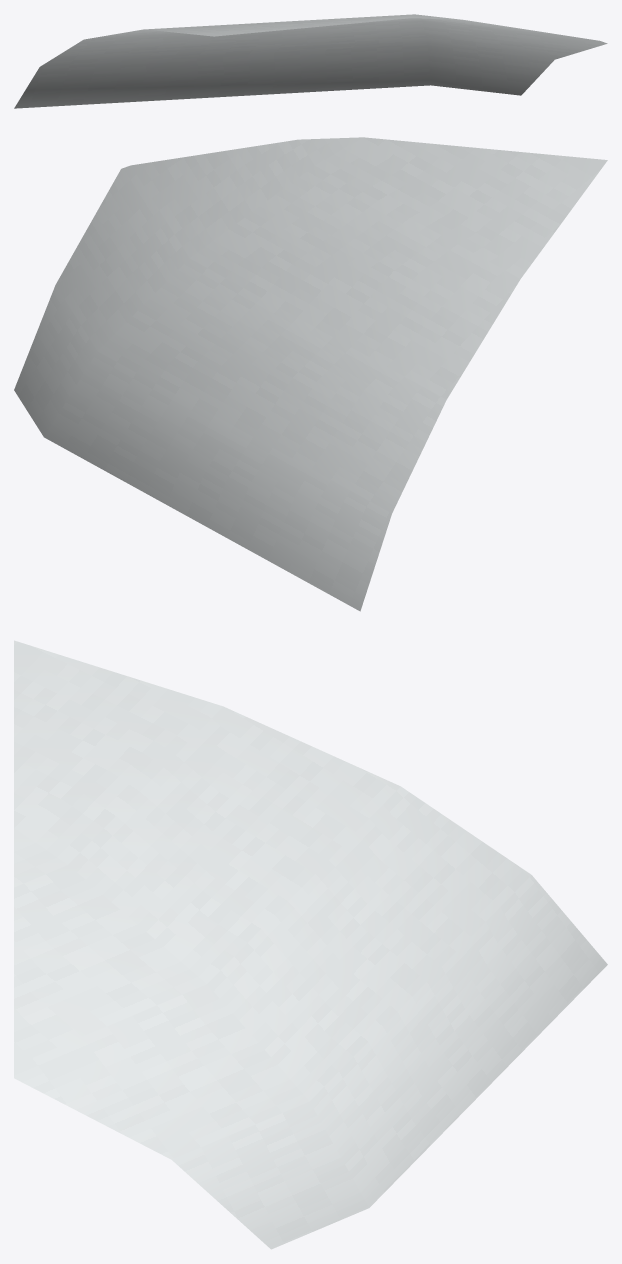
The model's file is spheroid_medium_2_3_0.obj.
3 renders of one model, top to bottom at view 1: azimuth 30°, elevation 25°; view 2: azimuth 150°, elevation 25°; view 3: azimuth 270°, elevation 25°, orthographic. The views are drawn at different scales.
Parts seen in each view (by area): view 1: spheroid_medium_2_3_0; view 2: spheroid_medium_2_3_0; view 3: spheroid_medium_2_3_0.
Part boxes in pixels (<box>): spheroid_medium_2_3_0: <box>14,14,607,108</box>; spheroid_medium_2_3_0: <box>14,137,607,611</box>; spheroid_medium_2_3_0: <box>14,640,607,1249</box>.
Size of the model in its own units: 3 by 1.59 by 2.64.
